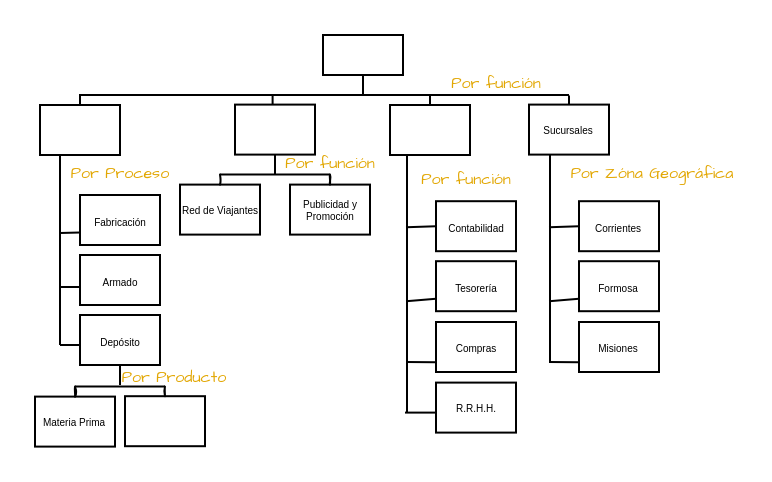
This 772x482 diagram has some shape labels left out. Here are the shapes that lost their labels. From the top down, the box of each, then its label:
(321, 33, 403, 75): Gerencia General
(38, 103, 120, 155): Producción
(233, 103, 315, 155): Comercialización
(388, 103, 470, 155): Administración
(123, 394, 205, 446): Materiales
